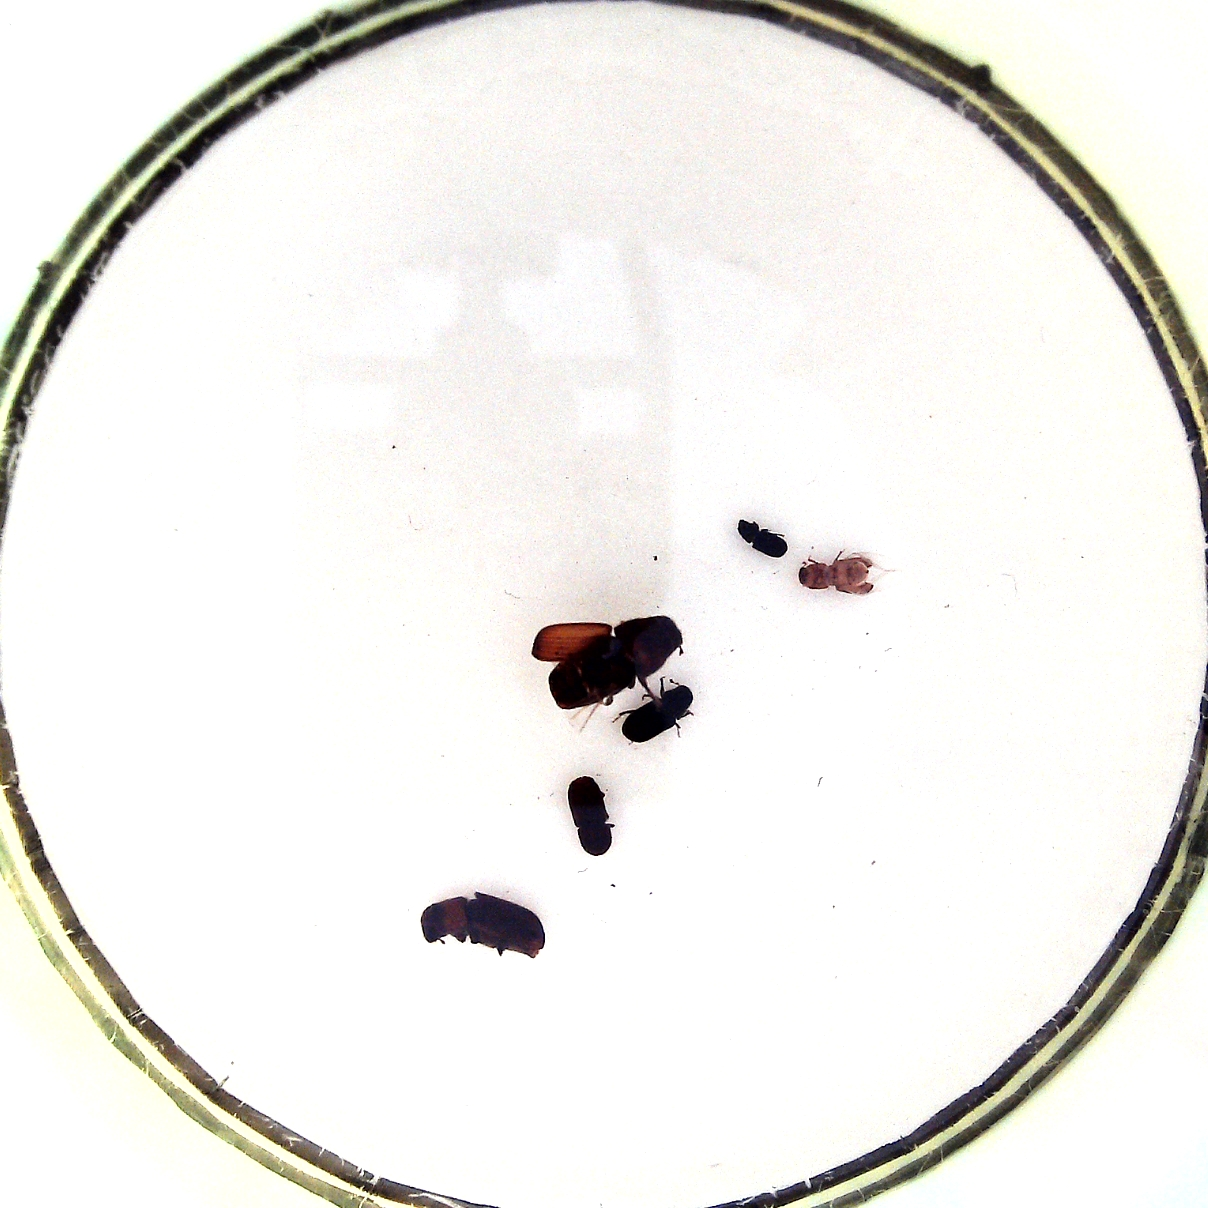Leconte: (533, 615, 678, 702), (415, 888, 550, 962)
Linnaeus: (566, 772, 617, 860)
acuminatus: (796, 546, 878, 595)
armandi: (622, 683, 696, 746)
coleoptera: (735, 513, 791, 558)
